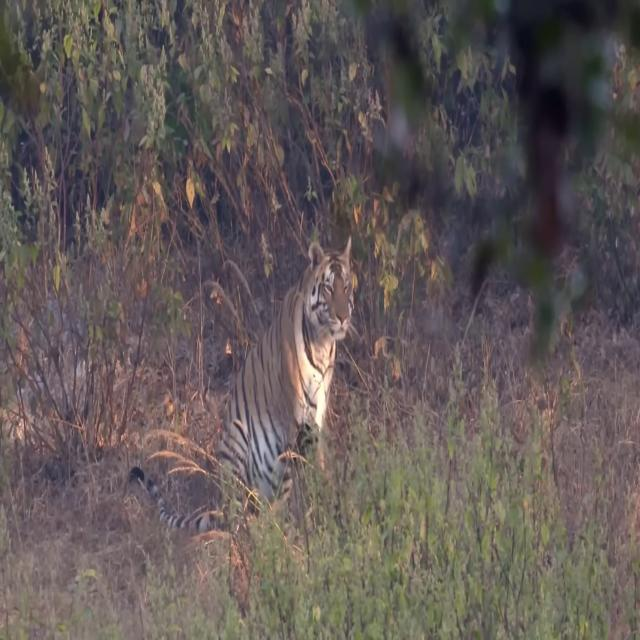tiger: (124, 235, 358, 532)
